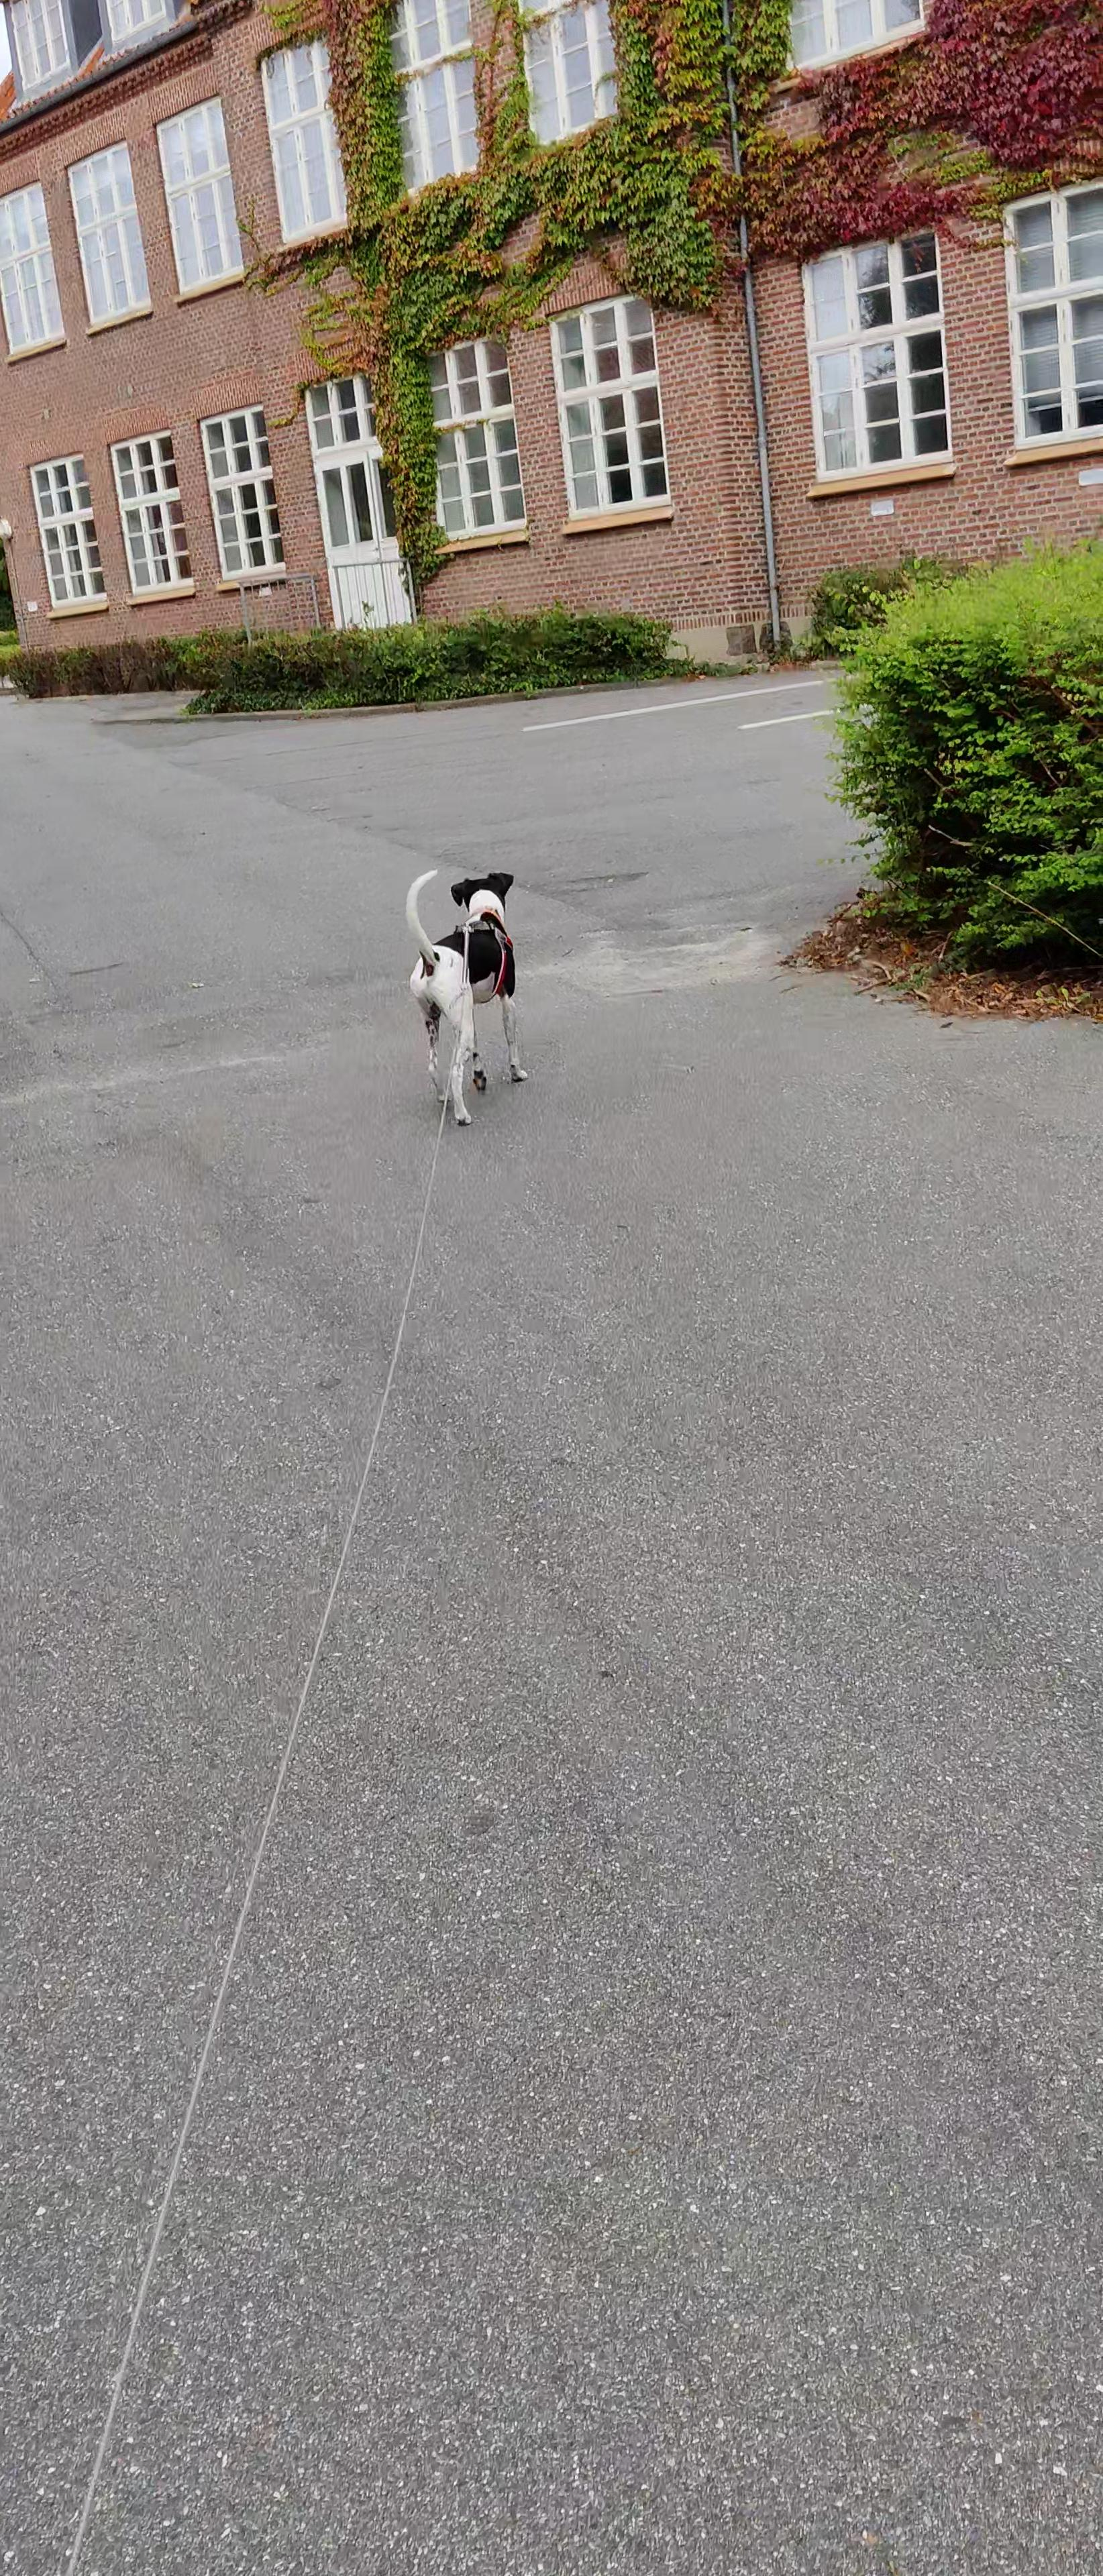Dog: (383, 851, 546, 1138)
